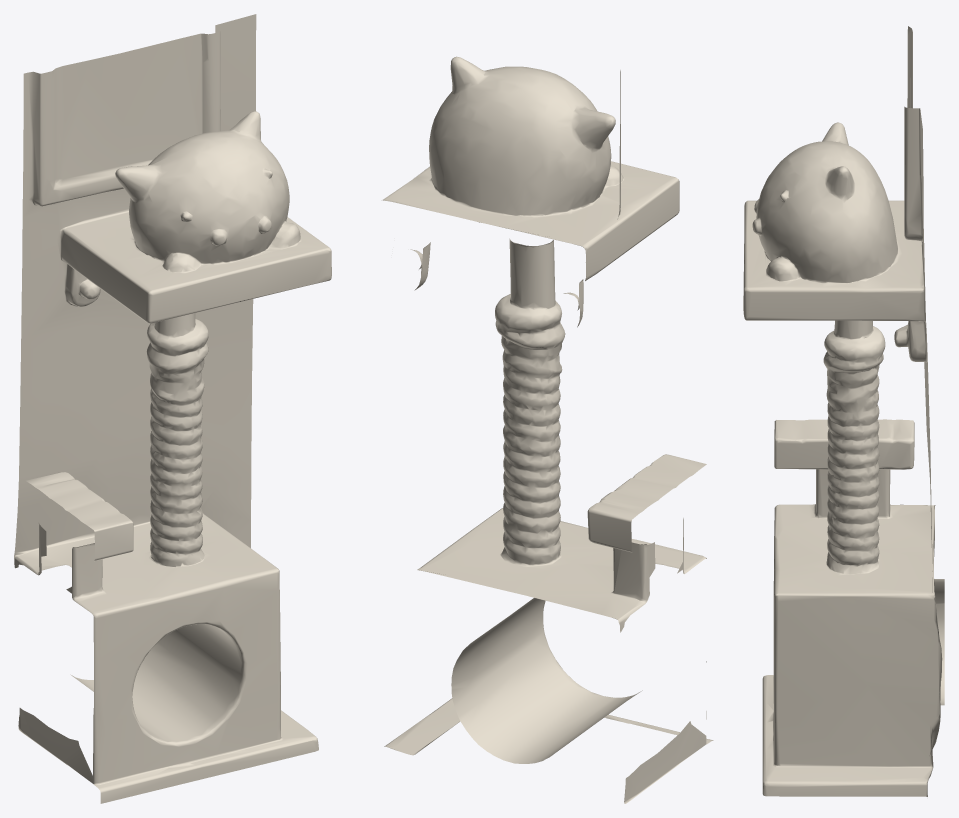
File: cat_tree.glb
The picture shows the model from 3 angles, left to right: view 1: azimuth 30°, elevation 25°; view 2: azimuth 150°, elevation 25°; view 3: azimuth 270°, elevation 25°; orthographic projection. The views are drawn at different scales.
Size of the model in its own units: 0.1979 by 0.541 by 0.1461.
